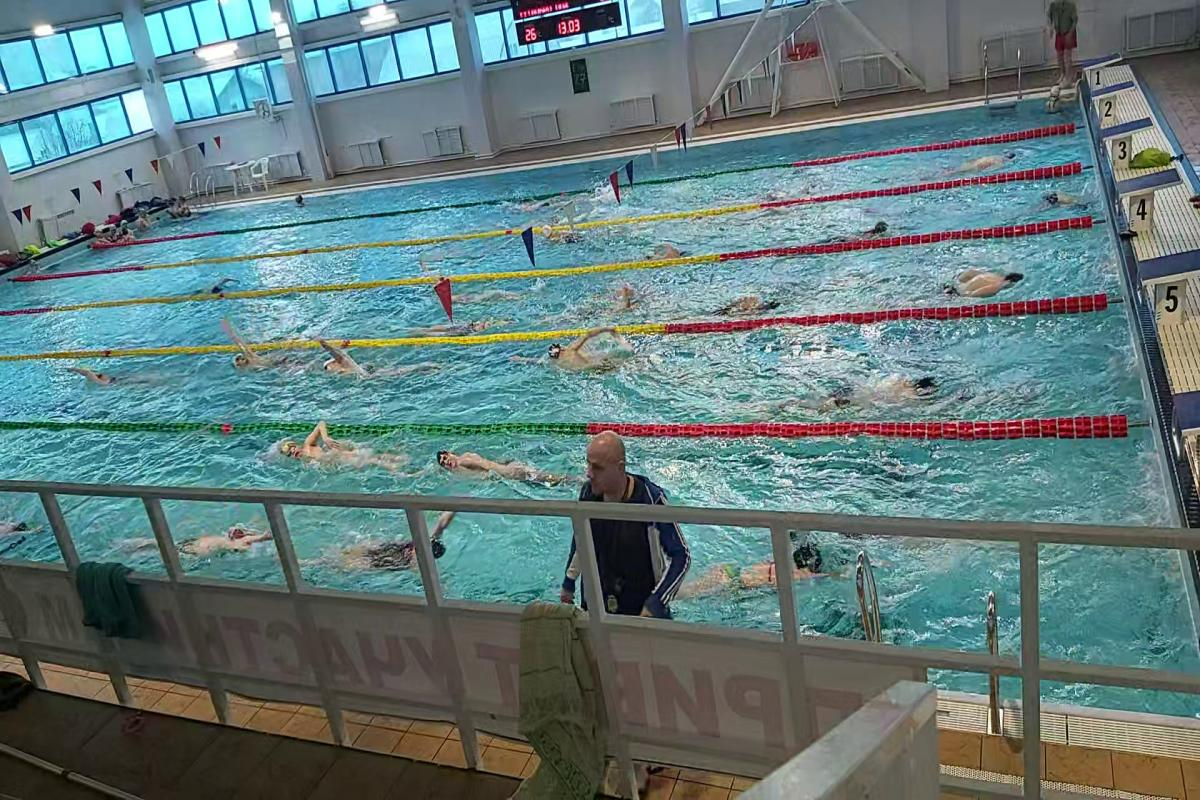swimmer: (796, 362, 937, 416), (252, 437, 394, 482), (436, 442, 554, 486), (704, 544, 820, 584), (535, 332, 636, 372), (329, 530, 424, 572), (320, 348, 420, 386), (932, 252, 1007, 301), (190, 523, 269, 566), (54, 364, 165, 390), (704, 285, 786, 314), (231, 348, 298, 382), (1022, 180, 1087, 215), (834, 219, 914, 240), (640, 235, 690, 264), (542, 224, 602, 246), (949, 156, 1007, 171), (204, 270, 242, 286)
